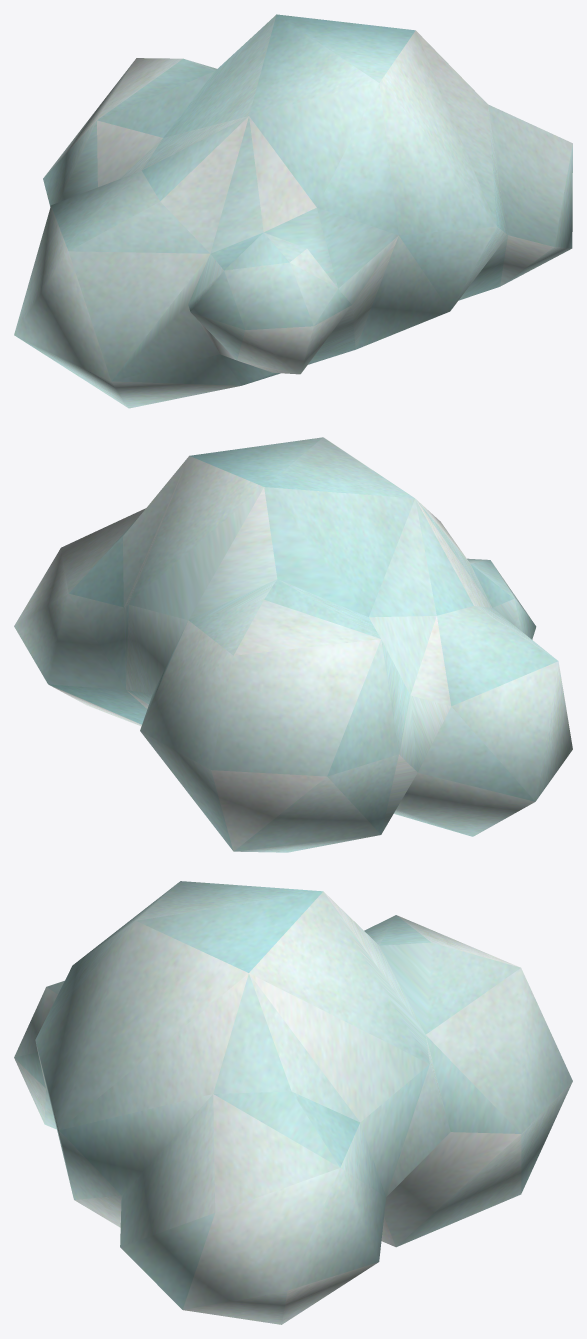
File: Cloud-03.fbx
3 renders of one model, top to bottom at view 1: azimuth 30°, elevation 25°; view 2: azimuth 150°, elevation 25°; view 3: azimuth 270°, elevation 25°, orthographic. The views are drawn at different scales.
Parts seen in each view (by area): view 1: Cloud-03; view 2: Cloud-03; view 3: Cloud-03.
Boxes of the visible parts, x1=… form: Cloud-03: x1=14, y1=14, x2=572, y2=408; Cloud-03: x1=14, y1=437, x2=572, y2=852; Cloud-03: x1=14, y1=881, x2=572, y2=1324.
Size of the model in its own units: 1.47 by 0.8686 by 1.15.
